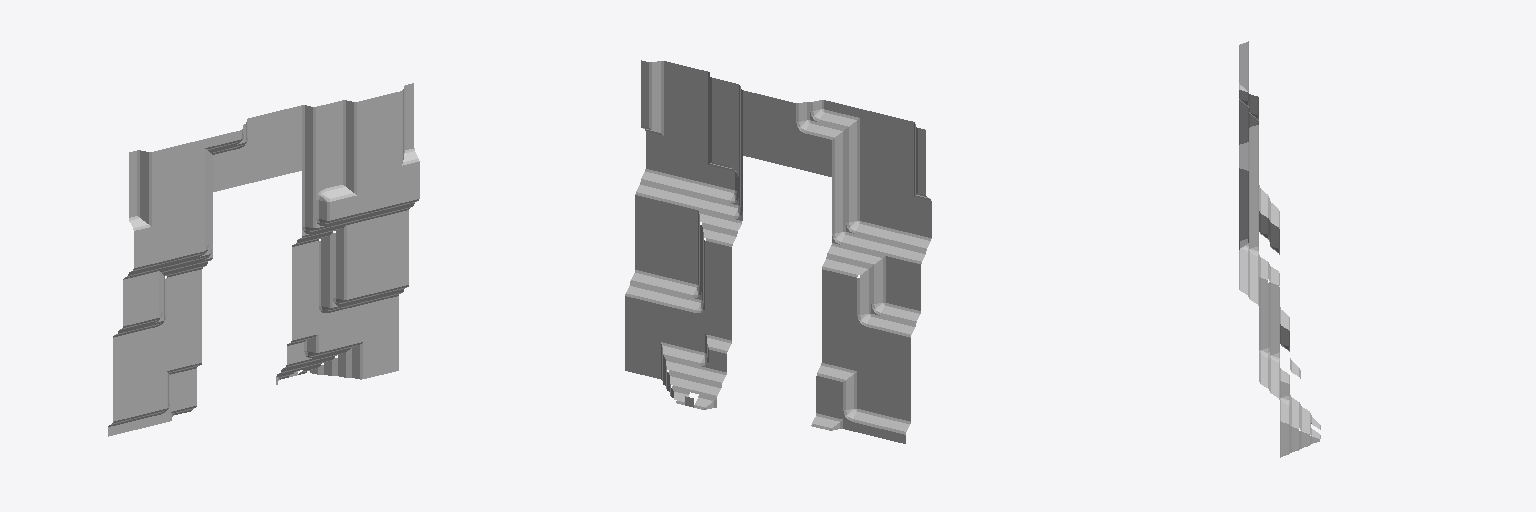
Rendered from Plat_full_08_12.obj.
3 renders of one model, left to right at view 1: azimuth 30°, elevation 25°; view 2: azimuth 150°, elevation 25°; view 3: azimuth 270°, elevation 25°, orthographic.
Visible parts, largest first — view 1: map; view 2: map; view 3: map.
Boxes of the visible parts, x1=… form: map: x1=108, y1=83, x2=419, y2=436; map: x1=625, y1=60, x2=931, y2=443; map: x1=1239, y1=41, x2=1320, y2=457.
Bounding box in the file's own units: 32 × 32 × 8.